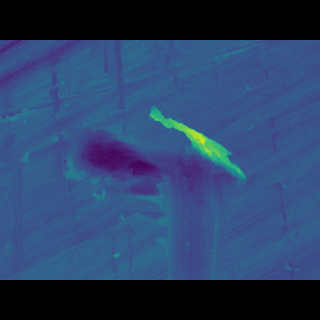Loch: (49, 125, 252, 202)
